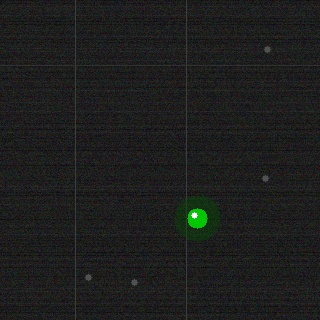green_normal: (185, 206, 209, 230)
